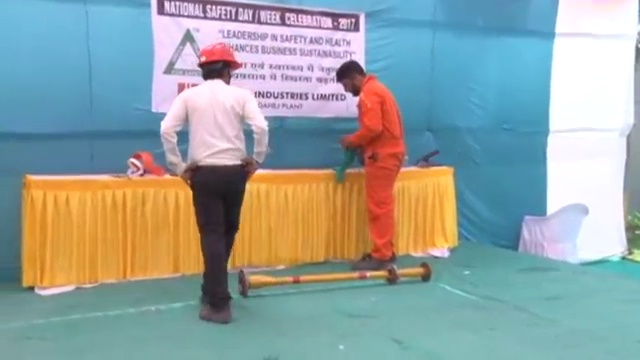helmet: (195, 41, 244, 69)
helmet_off: (335, 59, 367, 98)
helmet_on: (195, 40, 244, 87)
person: (162, 39, 269, 321), (334, 58, 407, 267)
